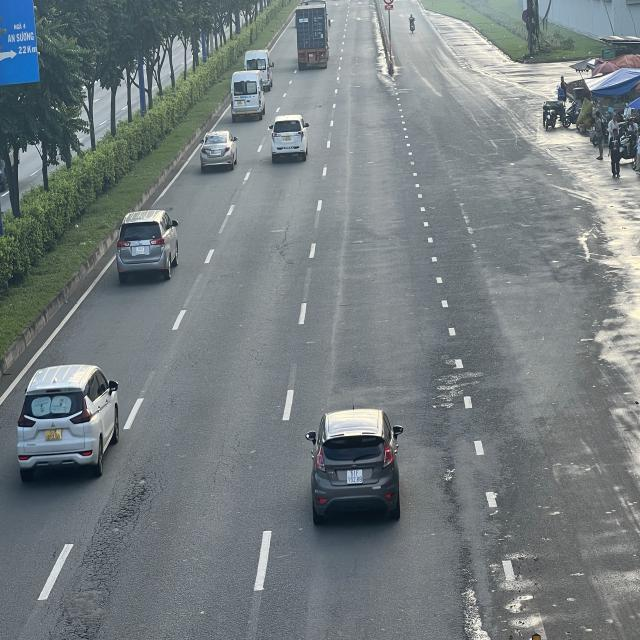car: (15, 363, 119, 477), (308, 408, 402, 520), (116, 207, 178, 277), (269, 116, 310, 162), (200, 130, 239, 170)
container: (293, 0, 330, 69)
van: (229, 70, 264, 119), (246, 50, 274, 90)
